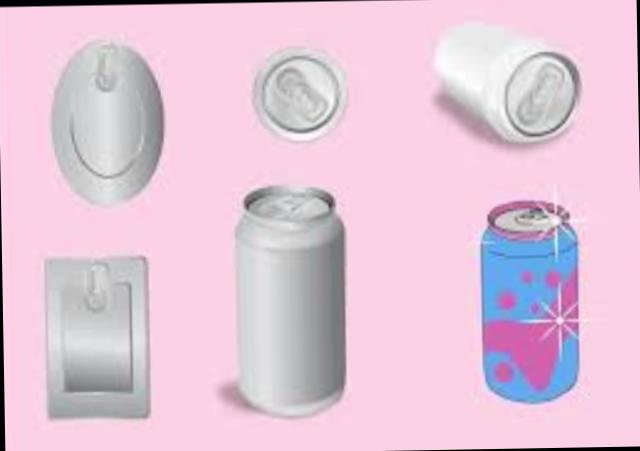metal: (233, 184, 340, 413), (477, 198, 573, 396), (47, 39, 157, 197), (431, 22, 573, 136)
